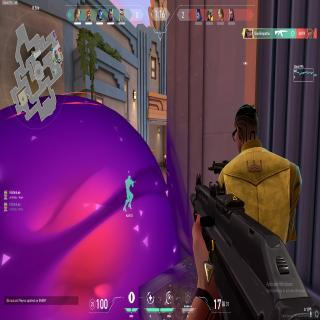ENEMY-BODY: (164, 154, 166, 169)
ENEMY-HEAD: (164, 155, 166, 158)
